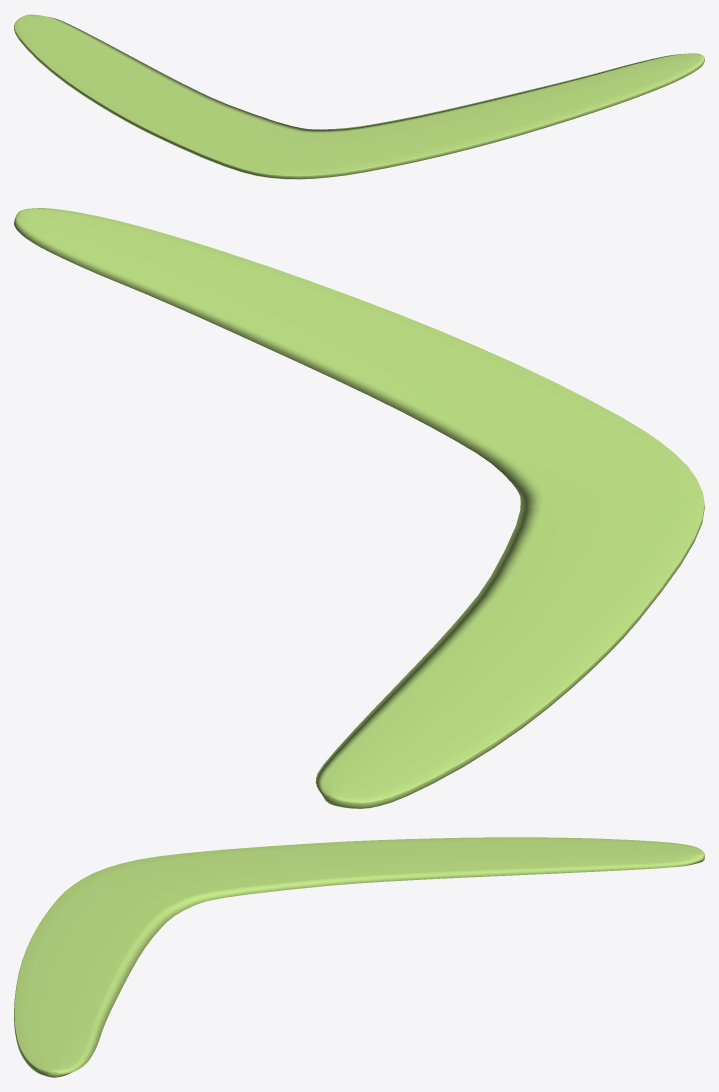
The model's file is Boomerang01.fbx.
3 renders of one model, top to bottom at view 1: azimuth 30°, elevation 25°; view 2: azimuth 150°, elevation 25°; view 3: azimuth 270°, elevation 25°, orthographic. The views are drawn at different scales.
Visible parts, largest first — view 1: Boomerang01; view 2: Boomerang01; view 3: Boomerang01.
Part boxes in pixels (x1,y1,x2,y2): Boomerang01: (14,14,704,179); Boomerang01: (14,208,704,808); Boomerang01: (14,837,704,1077).
Bounding box in the file's own units: 101 × 9.99 × 101.
